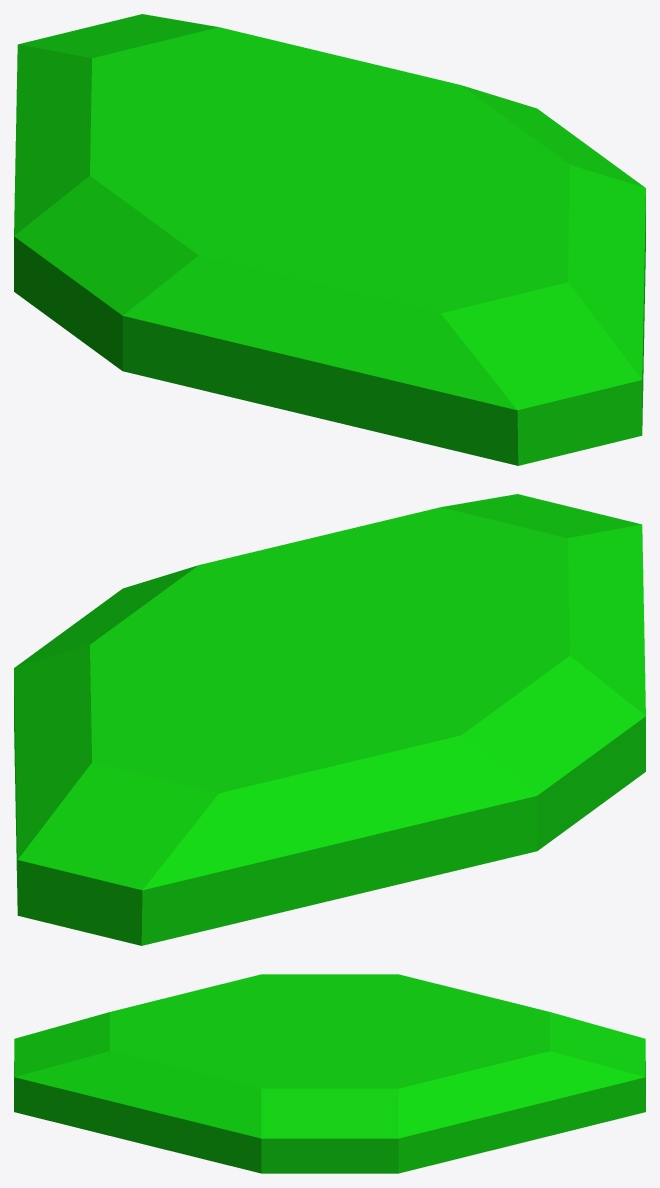
The model's file is Jem_05.fbx.
The picture shows the model from 3 angles, top to bottom: view 1: azimuth 30°, elevation 25°; view 2: azimuth 150°, elevation 25°; view 3: azimuth 270°, elevation 25°; orthographic projection. The views are drawn at different scales.
Parts seen in each view (by area): view 1: Jem_05; view 2: Jem_05; view 3: Jem_05.
Part boxes in pixels (x1=…): Jem_05: x1=14, y1=14, x2=645, y2=465; Jem_05: x1=14, y1=494, x2=645, y2=945; Jem_05: x1=14, y1=974, x2=645, y2=1173.
Size of the model in its own units: 32.69 by 5.81 by 54.15.
